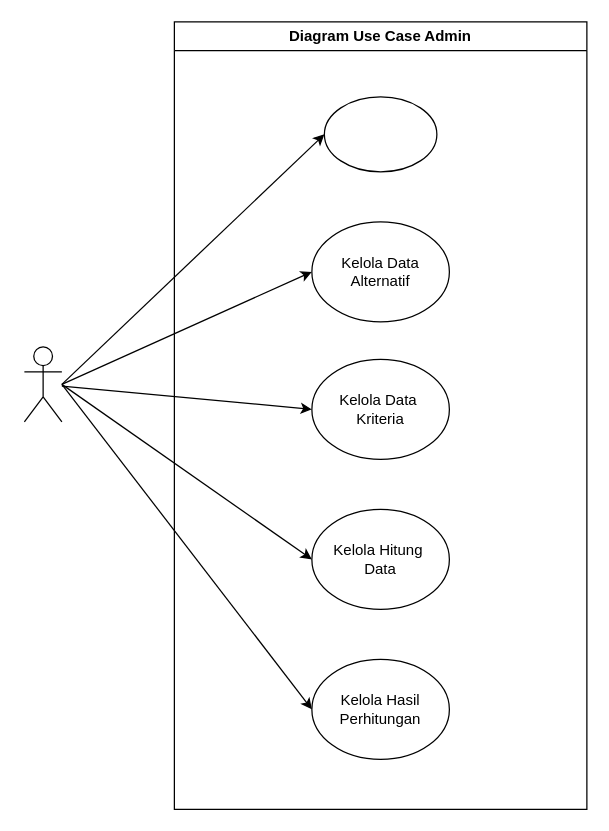
Image size: 609x831. Some labels were removed from this diagram. Here are the shapes that lost their labels. From the top down, the centre of each, then its label:
At point 380,134: "Login".
At point 42,384: "Admin".
